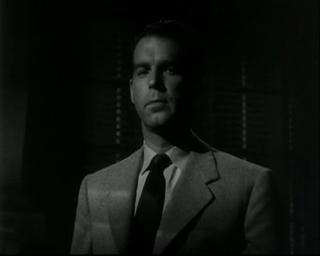face: (132, 44, 182, 126)
mcu: (1, 1, 320, 256)
person: (69, 21, 278, 256)
